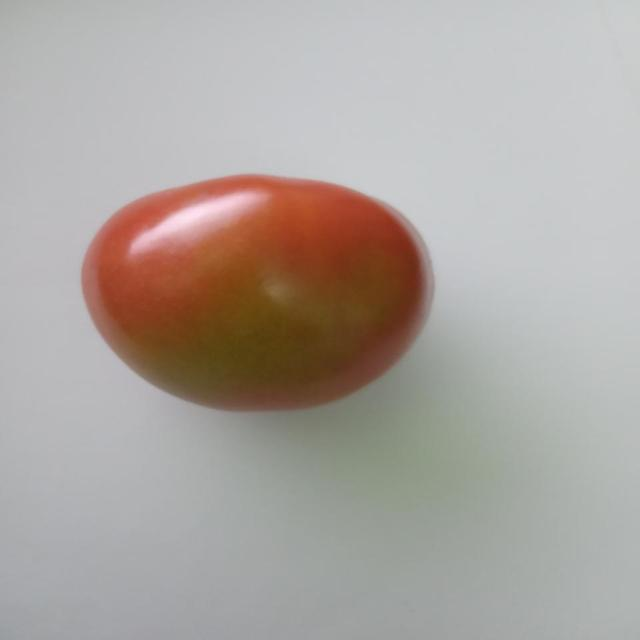Healthy Fruit: (51, 109, 294, 282)
